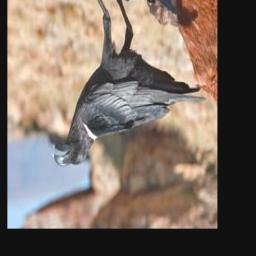Crow: (53, 0, 208, 172)
